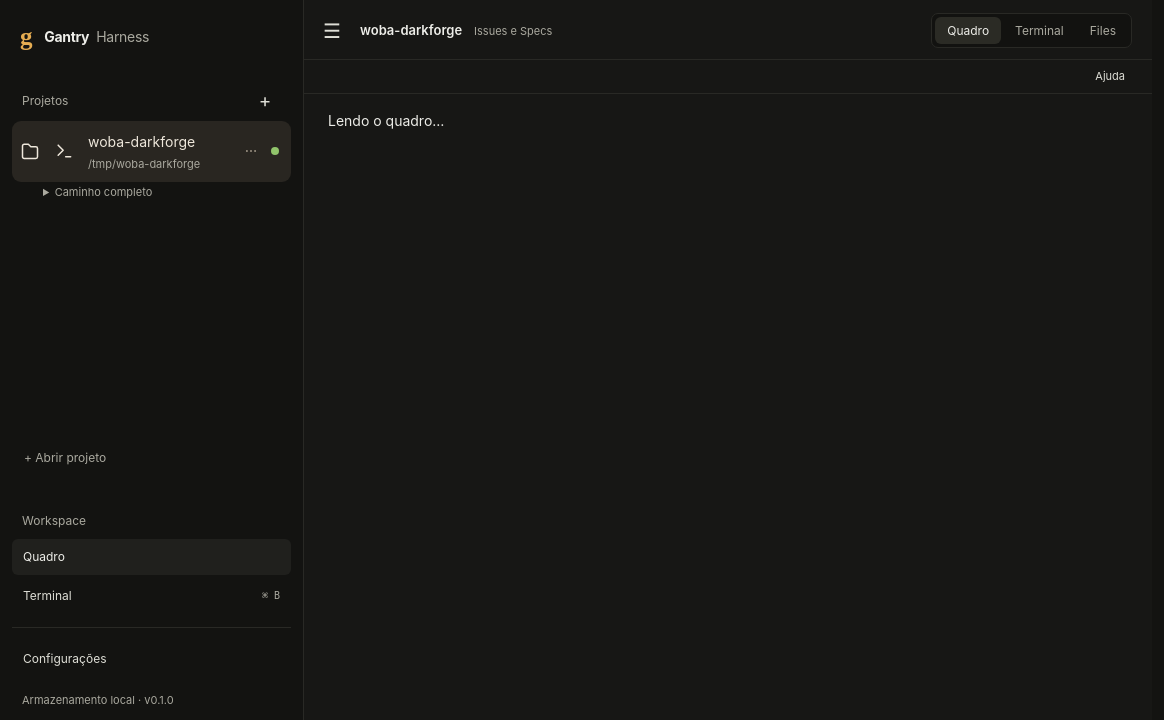
Test case: expands the project tree and opens a file beside the listing
This screenshot has width=1164, height=720.
Click the button with test id "open-files-btn" at {"x": 1103, "y": 30}, box [1078, 17, 1128, 44]
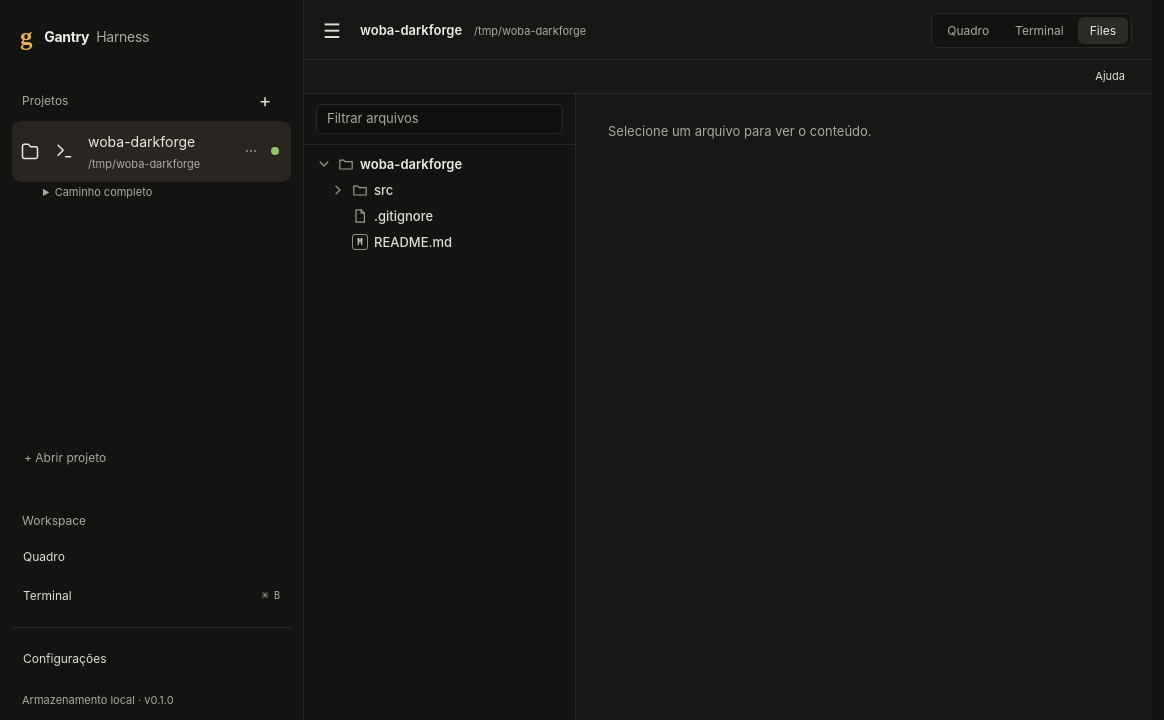
Expected: the element with test id "file-viewer-placeholder" shows "Selecione um arquivo", [608, 123, 872, 139]
Click the list item with test id "file-tree-src" at {"x": 440, "y": 190}, box [310, 177, 569, 203]
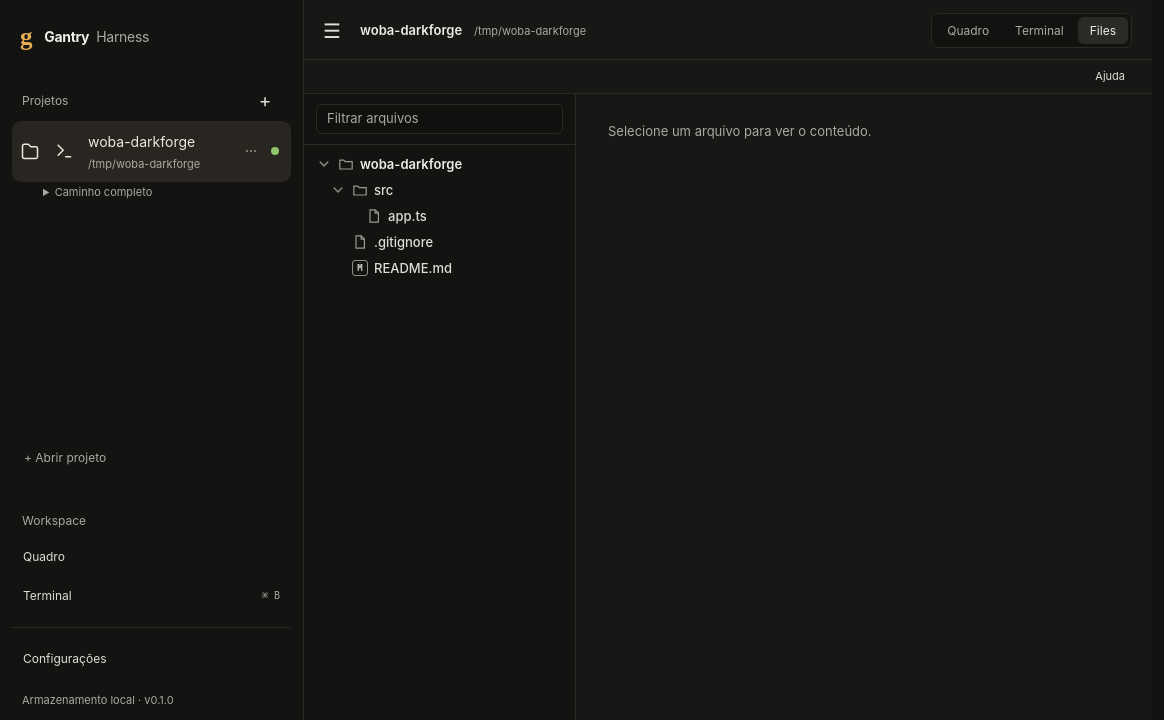
Expected: the list item with test id "file-tree-src/app.ts" is shown
Click the list item with test id "file-tree-src/app.ts" at {"x": 440, "y": 216}, box [310, 203, 569, 229]
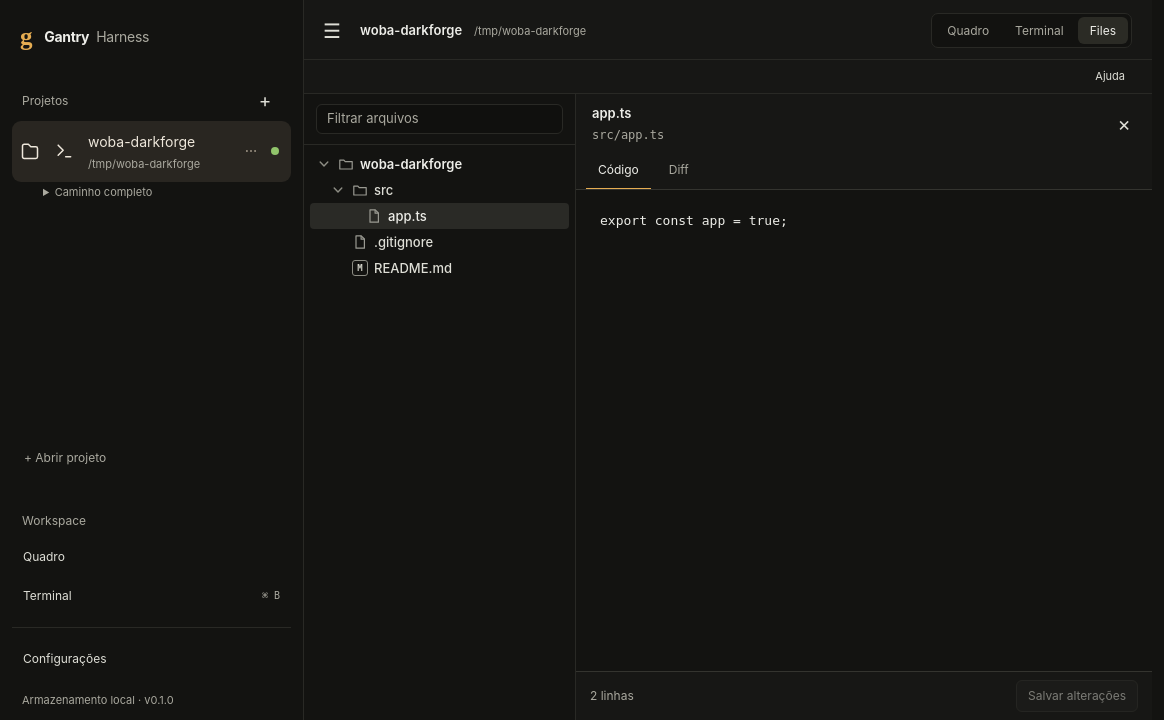
Expected: the element with test id "file-viewer-pane" is shown, [576, 94, 1152, 719]
Type "readme" into the field with test id "file-tree-filter" at {"x": 440, "y": 119}, box [316, 104, 563, 134]
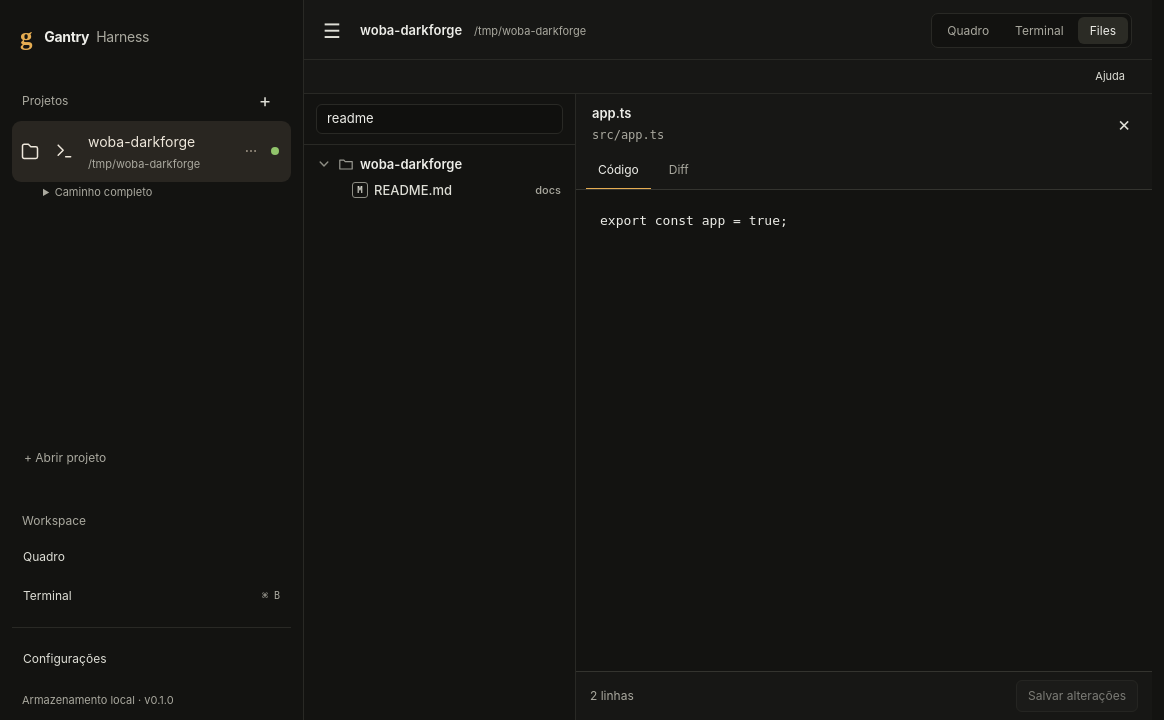
Expected: the list item with test id "file-tree-docs/README.md" is shown, [310, 177, 569, 203]
